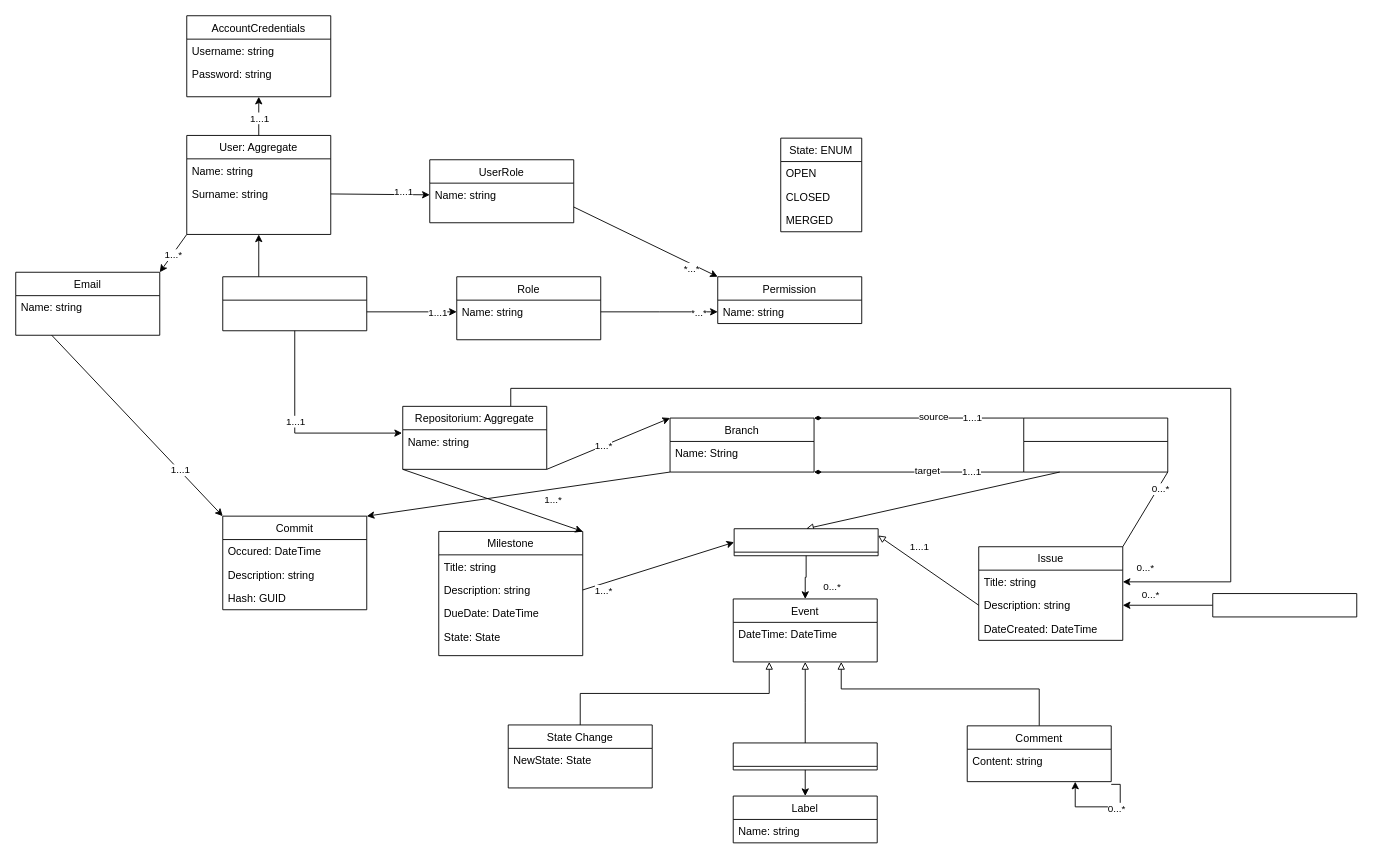
Image size: 1373x861. Some labels were removed from this diagram. Here are the shapes that lost their labels. From the top down, the centre of each, then its label:
At point 294,303: "Membership: Document".
At point 1095,444: "PullRequest".
At point 805,542: "Task".
At point 1284,605: "Project".
At point 804,756: "LabelApplication".
